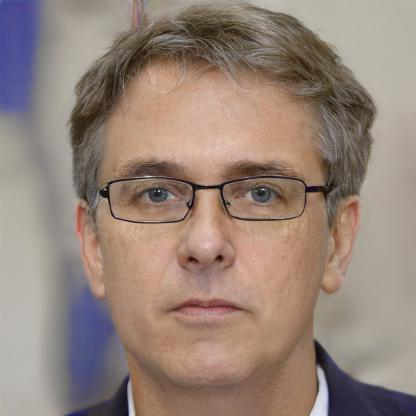glasses: (100, 174, 322, 226)
